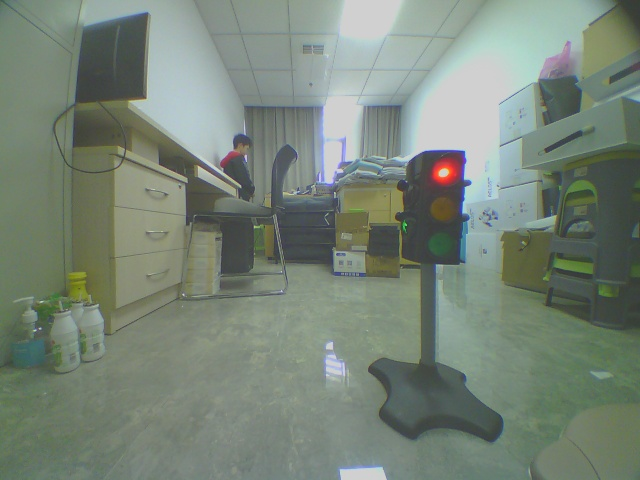Red: (426, 148, 466, 265)
